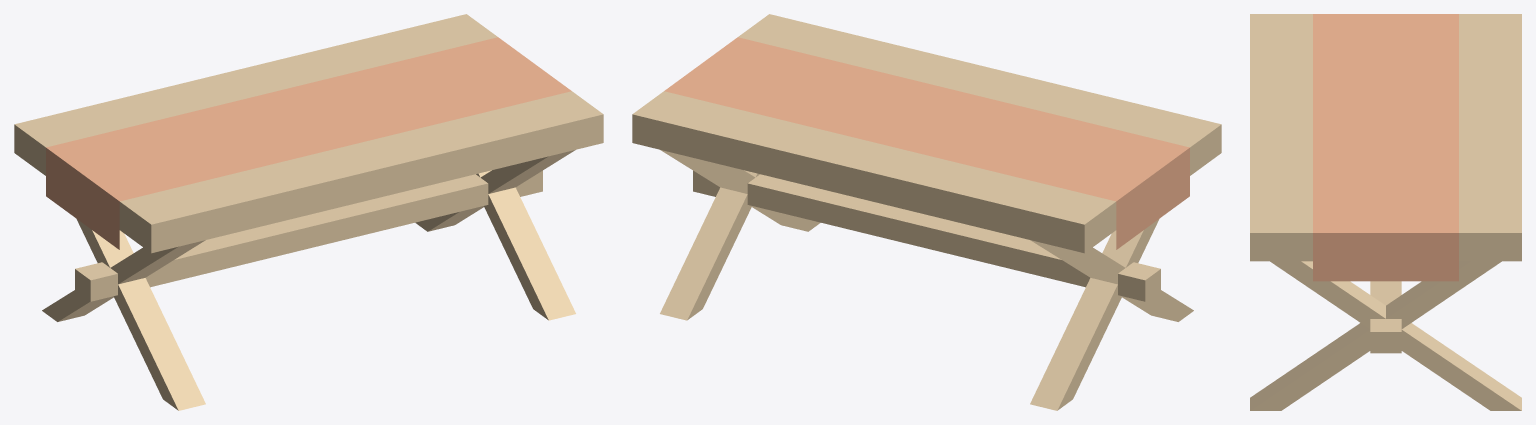
The model's file is tableCrossCloth.glb.
The picture shows the model from 3 angles, left to right: view 1: azimuth 30°, elevation 25°; view 2: azimuth 150°, elevation 25°; view 3: azimuth 270°, elevation 25°; orthographic projection.
Visible parts, largest first — view 1: tableCrossCloth; view 2: tableCrossCloth; view 3: tableCrossCloth.
Part boxes in pixels (bbox=[...]): tableCrossCloth: bbox=[14, 14, 603, 410]; tableCrossCloth: bbox=[632, 14, 1221, 410]; tableCrossCloth: bbox=[1250, 14, 1521, 410].
Bounding box in the file's own units: 8.52 × 3.47 × 4.47.
